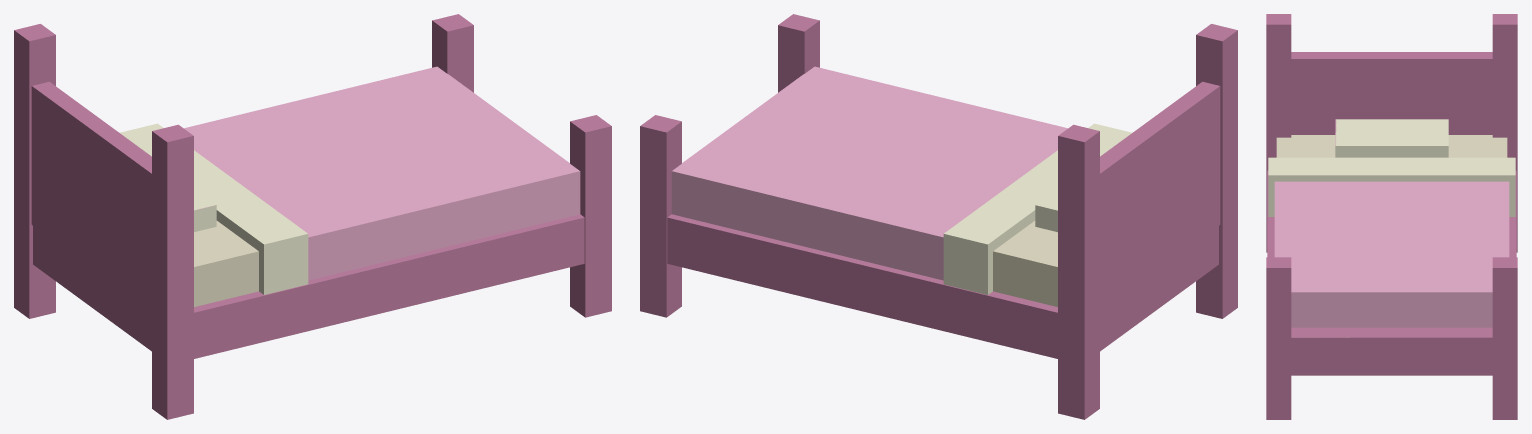
Rendered from bed1_pink_pink.glb.
The picture shows the model from 3 angles, left to right: view 1: azimuth 30°, elevation 25°; view 2: azimuth 150°, elevation 25°; view 3: azimuth 270°, elevation 25°; orthographic projection. The views are drawn at different scales.
Parts seen in each view (by area): view 1: Object007; view 2: Object007; view 3: Object007.
Boxes of the visible parts, x1,y1,x2,y2 form: Object007: [14, 14, 611, 419]; Object007: [640, 14, 1237, 419]; Object007: [1266, 14, 1517, 419].
Size of the model in its own units: 0.2011 by 0.12 by 0.12.
1 material, 1 textured.
